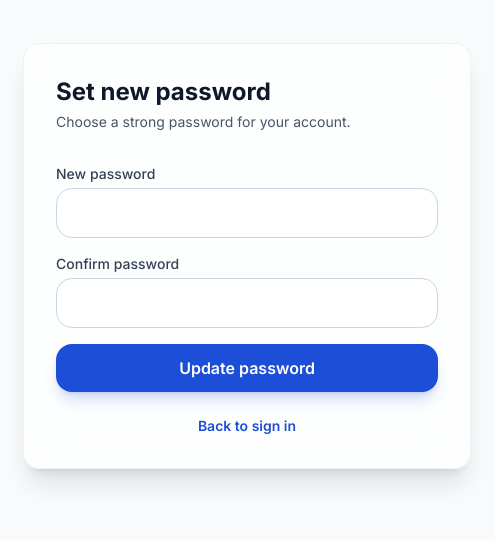
Test: ResetPasswordPage › requires matching passwords
Type "password123" into the password field labelled "New password".
click(247, 213); type("password123")  # box x1=56 y1=188 x2=438 y2=238
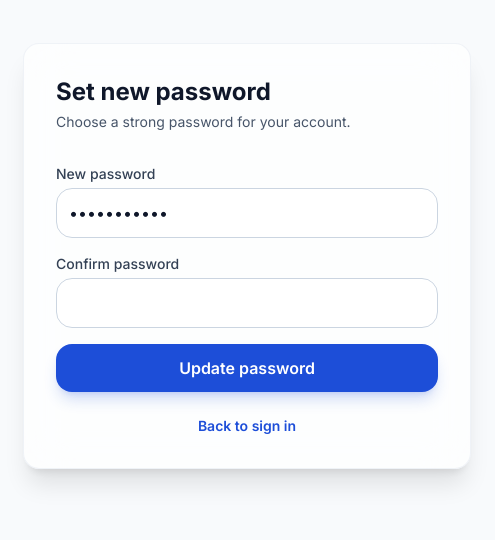
Type "password456" into the password field labelled "Confirm password".
click(247, 303); type("password456")  # box x1=56 y1=278 x2=438 y2=328
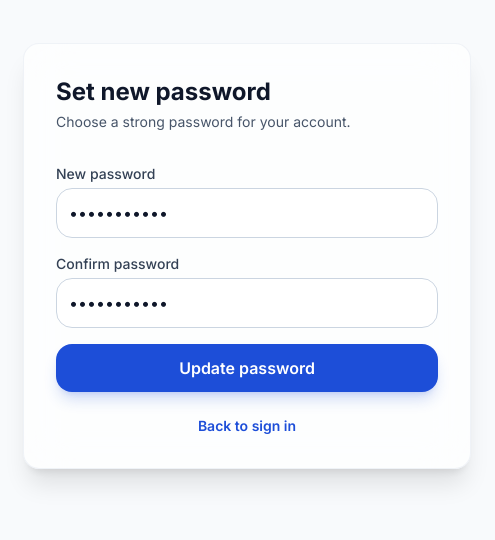
Click the button "Update password".
click(247, 368)  # box x1=56 y1=344 x2=438 y2=392
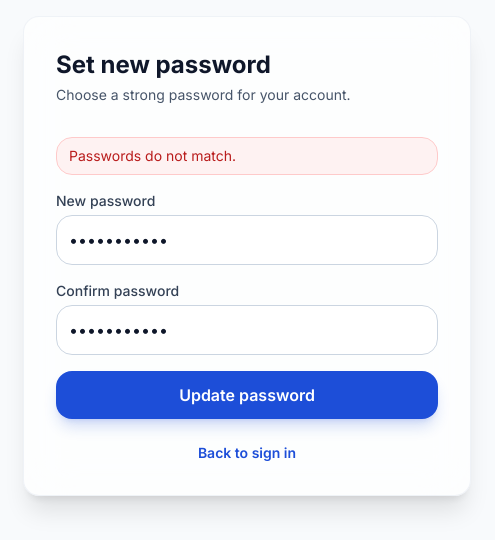
Check: the message shows "do not match", box x1=69 y1=147 x2=236 y2=164
